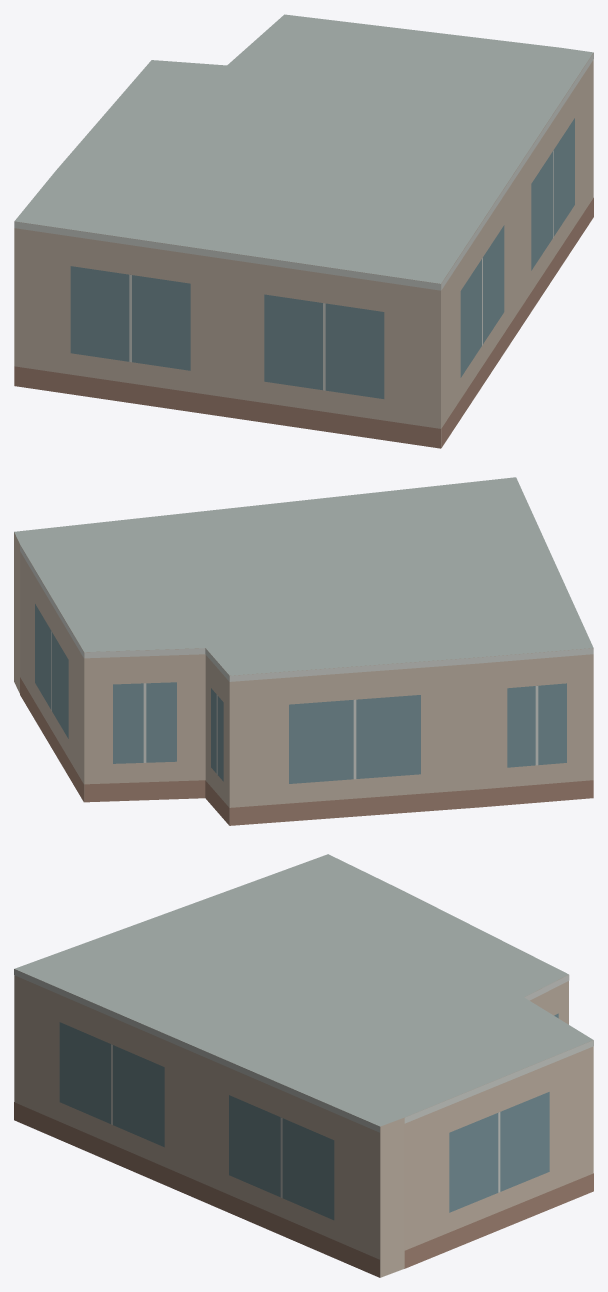
File: survey-upis-32613348.glb
3 views of the same model, one above another, from view 1: azimuth 30°, elevation 25°; view 2: azimuth 150°, elevation 25°; view 3: azimuth 270°, elevation 25° (orthographic). The views are drawn at different scales.
Parts seen in each view (by area): view 1: survey-upis-32613348.tmp; view 2: survey-upis-32613348.tmp; view 3: survey-upis-32613348.tmp.
Part boxes in pixels (x1,y1,x2,y2): survey-upis-32613348.tmp: (14,14,593,448); survey-upis-32613348.tmp: (14,477,593,825); survey-upis-32613348.tmp: (14,854,593,1277).
Bounding box in the file's own units: 11.79 × 3.05 × 10.6.
